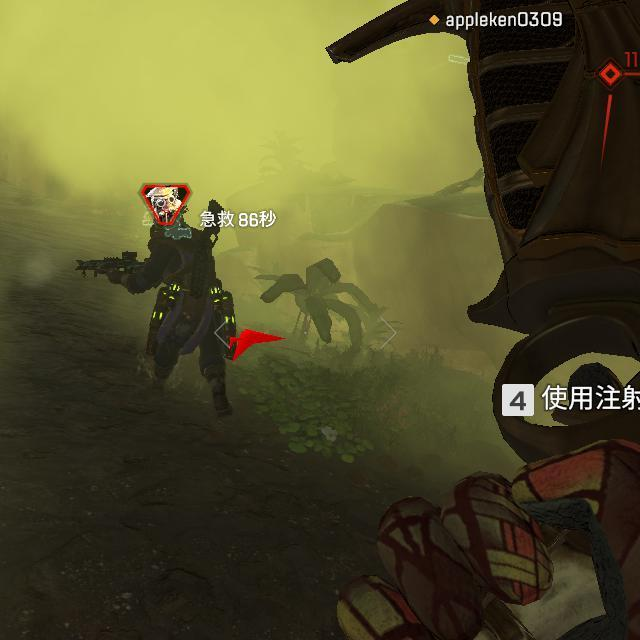avatar: (143, 225, 240, 420)
